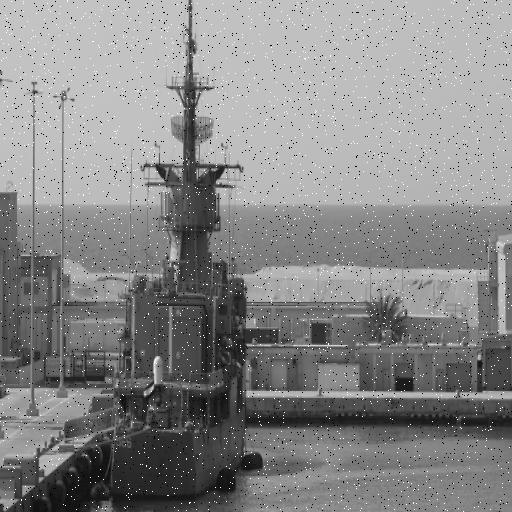Fragata: (101, 1, 252, 510)
